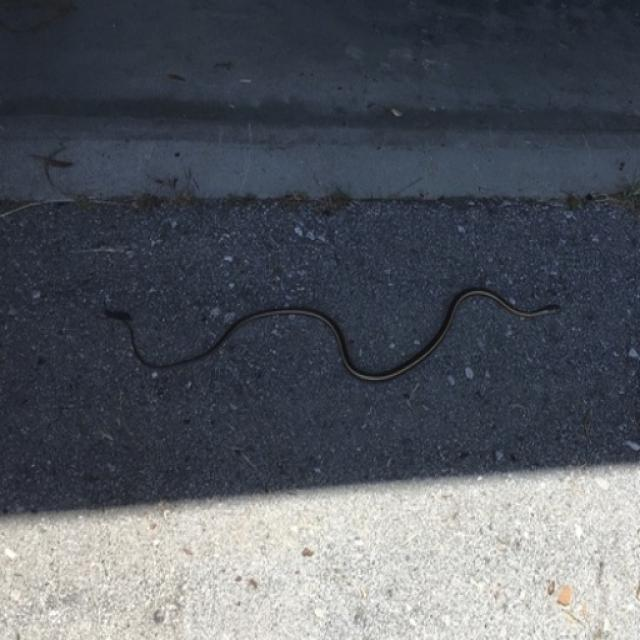snake: (81, 279, 584, 395)
